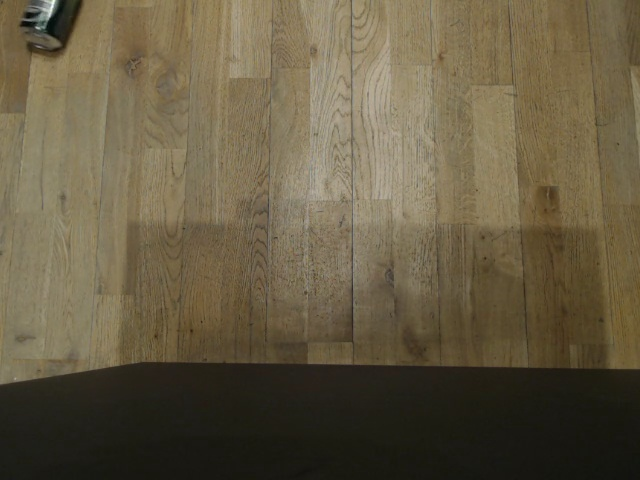beer: (15, 0, 77, 52)
